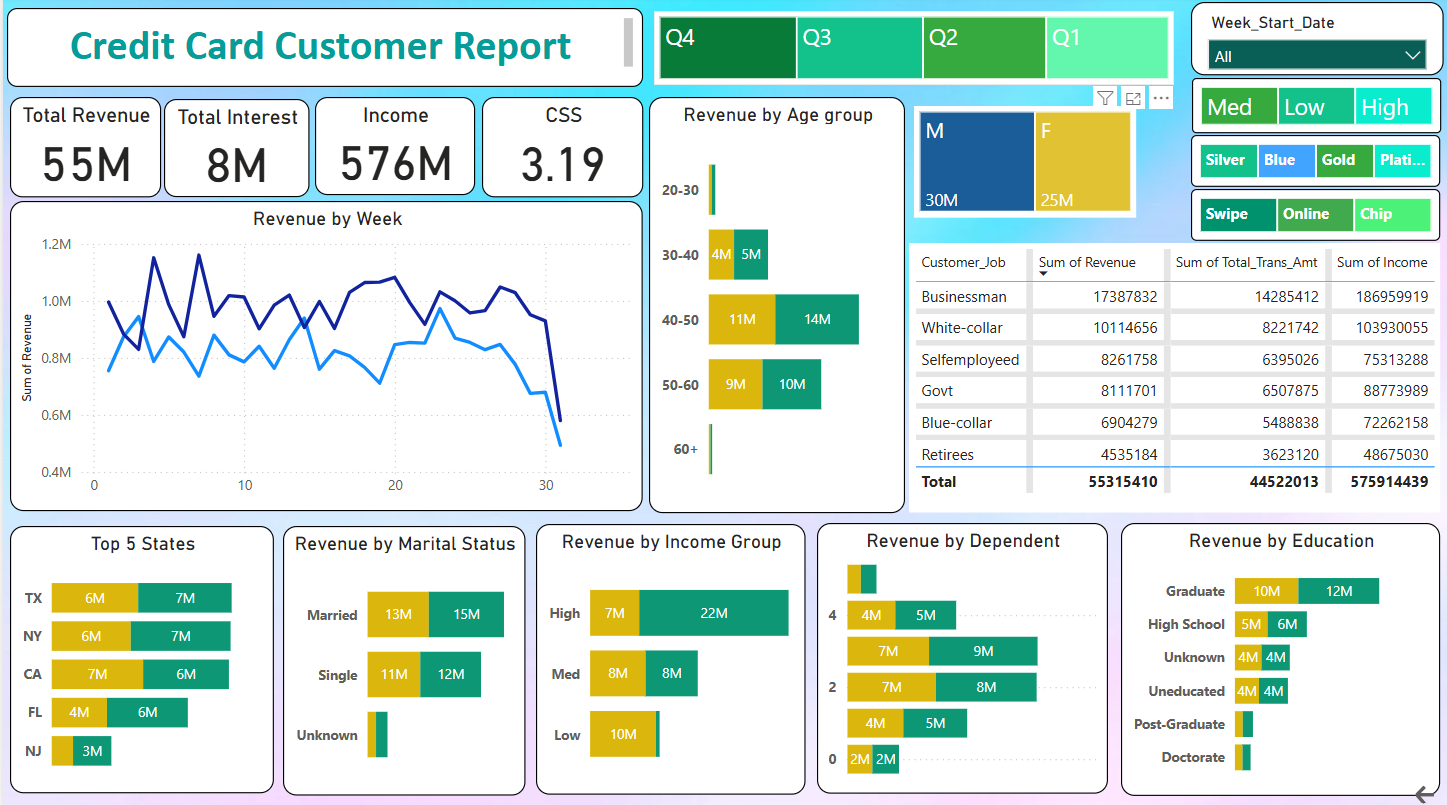

Layout of this report page (visuals, bound fields, positions):
{"tool":"powerbi","page":{"name":"CC Customer","canvas":[1280,720],"ordinal":1},"visuals":[{"type":"textbox","box":[3.5,9.8,563.9,70],"z":0},{"type":"barChart","title":"Revenue by Income Group","fields":{"Y":["Sum(credit_cards.Revenue)"],"Category":["customer.IncomeGroup"],"Series":["customer.Gender"]},"box":[472.4,467.6,238.6,240.2],"z":1000},{"type":"tableEx","fields":{"Values":["customer.Customer_Job","Sum(credit_cards.Revenue)","Sum(credit_cards.Total_Trans_Amt)","Sum(customer.Income)"]},"box":[803.3,217.9,470.8,238.6],"z":2000},{"type":"slicer","fields":{"Values":["credit_cards.Week_Start_Date"]},"box":[1053,4.8,224.3,65.2],"z":3000},{"type":"treemap","fields":{"Group":["credit_cards.Qtr"],"Values":["Avg(credit_cards.Client_Num)"]},"box":[577.4,12.7,461.3,65.2],"z":4000},{"type":"treemap","fields":{"Values":["Avg(credit_cards.Client_Num)"],"Group":["credit_cards.Card_Category"]},"box":[1053,122.5,221.1,46.1],"z":5000},{"type":"treemap","fields":{"Group":["customer.IncomeGroup"],"Values":["Avg(credit_cards.Client_Num)"]},"box":[1054.6,71.6,221.1,49.3],"z":6000},{"type":"card","title":"Total Revenue","fields":{"Values":["Sum(credit_cards.Revenue)"]},"box":[6.4,89.1,133.6,89.1],"z":7000},{"type":"card","title":"Total Interest","fields":{"Values":["Sum(credit_cards.Interest_Earned)"]},"box":[143.2,90.7,128.8,87.5],"z":8000},{"type":"card","title":"Income","fields":{"Values":["Sum(customer.Income)"]},"box":[276.8,89.1,141.6,87.5],"z":9000},{"type":"card","title":"CSS","fields":{"Values":["Avg(customer.Cust_Satisfaction_Score)"]},"box":[424.7,89.1,143.2,89.1],"z":10000},{"type":"lineChart","title":"Revenue by Week","fields":{"Y":["Sum(credit_cards.Revenue)"],"Series":["customer.Gender"],"Category":["credit_cards.Week_Start_Date.Variation.Date Hierarchy.Year","credit_cards.Week_Start_Date.Variation.Date Hierarchy.Month","credit_cards.Week_Start_Date.Variation.Date Hierarchy.Day"]},"box":[6.4,181.3,561.5,275.2],"z":11000},{"type":"treemap","fields":{"Group":["customer.Gender"],"Values":["Sum(credit_cards.Revenue)"]},"box":[808,97,230.6,98.6],"z":12000},{"type":"barChart","title":"Revenue by Age group","fields":{"Y":["Sum(credit_cards.Revenue)"],"Category":["customer.AgeGroup"],"Series":["customer.Gender"]},"box":[572.6,89.1,227.5,369],"z":13000},{"type":"barChart","title":"Revenue by Dependent","fields":{"Y":["Sum(credit_cards.Revenue)"],"Category":["customer.Dependent_Count"],"Series":["customer.Gender"]},"box":[722.1,466,257.7,240.2],"z":14000},{"type":"barChart","title":"Revenue by Education","fields":{"Y":["Sum(credit_cards.Revenue)"],"Category":["customer.Education_Level"],"Series":["customer.Gender"]},"box":[991,466,283.1,241.8],"z":15000},{"type":"barChart","title":"Top 5 States","fields":{"Y":["Sum(credit_cards.Revenue)"],"Category":["customer.state_cd"],"Series":["customer.Gender"]},"box":[6.4,469.2,233.8,237],"z":16000},{"type":"barChart","title":"Revenue by Marital Status","fields":{"Y":["Sum(credit_cards.Revenue)"],"Category":["customer.Marital_Status"],"Series":["customer.Gender"]},"box":[248.1,469.2,214.7,238.6],"z":17000},{"type":"treemap","fields":{"Values":["Avg(credit_cards.Client_Num)"],"Group":["credit_cards.Use Chip"]},"box":[1053,170.2,221.1,46.1],"z":18000},{"type":"actionButton","box":[1248.6,695.1,31.8,25.4],"z":19000}]}

Visuals, with their boxes in screenshot pixels (x1, y1, x2, y2), scaled from the page's 1280x720 canvas onto the 1447x805 screenshot:
textbox: BBox(4, 11, 641, 89)
"Revenue by Income Group" barChart: BBox(534, 523, 804, 791)
tableEx - customer.Customer_Job x Sum(credit_cards.Revenue): BBox(908, 244, 1440, 510)
slicer - credit_cards.Week_Start_Date: BBox(1190, 5, 1444, 78)
treemap - credit_cards.Qtr x Avg(credit_cards.Client_Num): BBox(653, 14, 1174, 87)
treemap - Avg(credit_cards.Client_Num) x credit_cards.Card_Category: BBox(1190, 137, 1440, 189)
treemap - customer.IncomeGroup x Avg(credit_cards.Client_Num): BBox(1192, 80, 1442, 135)
"Total Revenue" card: BBox(7, 100, 158, 199)
"Total Interest" card: BBox(162, 101, 307, 199)
"Income" card: BBox(313, 100, 473, 197)
"CSS" card: BBox(480, 100, 642, 199)
"Revenue by Week" lineChart: BBox(7, 203, 642, 510)
treemap - customer.Gender x Sum(credit_cards.Revenue): BBox(913, 108, 1174, 219)
"Revenue by Age group" barChart: BBox(647, 100, 904, 512)
"Revenue by Dependent" barChart: BBox(816, 521, 1108, 790)
"Revenue by Education" barChart: BBox(1120, 521, 1440, 791)
"Top 5 States" barChart: BBox(7, 525, 272, 790)
"Revenue by Marital Status" barChart: BBox(280, 525, 523, 791)
treemap - Avg(credit_cards.Client_Num) x credit_cards.Use Chip: BBox(1190, 190, 1440, 242)
actionButton: BBox(1412, 777, 1446, 804)
